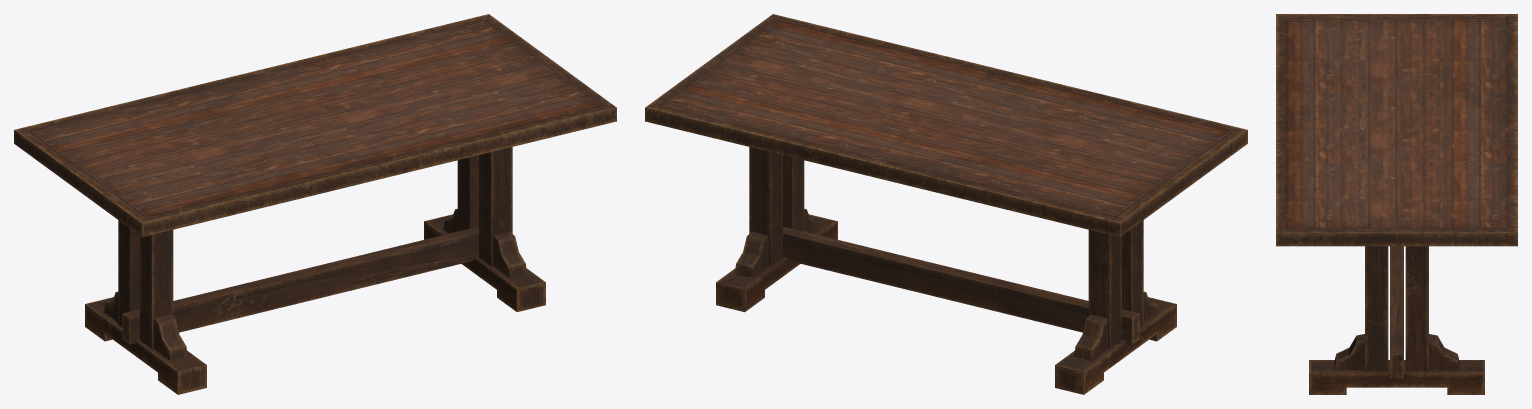
File: wooden_table_low_poly.glb
3 views of the same model, side by side, from view 1: azimuth 30°, elevation 25°; view 2: azimuth 150°, elevation 25°; view 3: azimuth 270°, elevation 25° (orthographic). The views are drawn at different scales.
Parts seen in each view (by area): view 1: Material-material; view 2: Material-material; view 3: Material-material.
Boxes of the visible parts, x1,y1,x2,y2 form: Material-material: [14, 14, 616, 394]; Material-material: [645, 14, 1247, 394]; Material-material: [1276, 14, 1517, 394].
Bounding box in the file's own units: 1.8 × 0.7146 × 0.84.
Materials: 1 (1 with a texture image).
